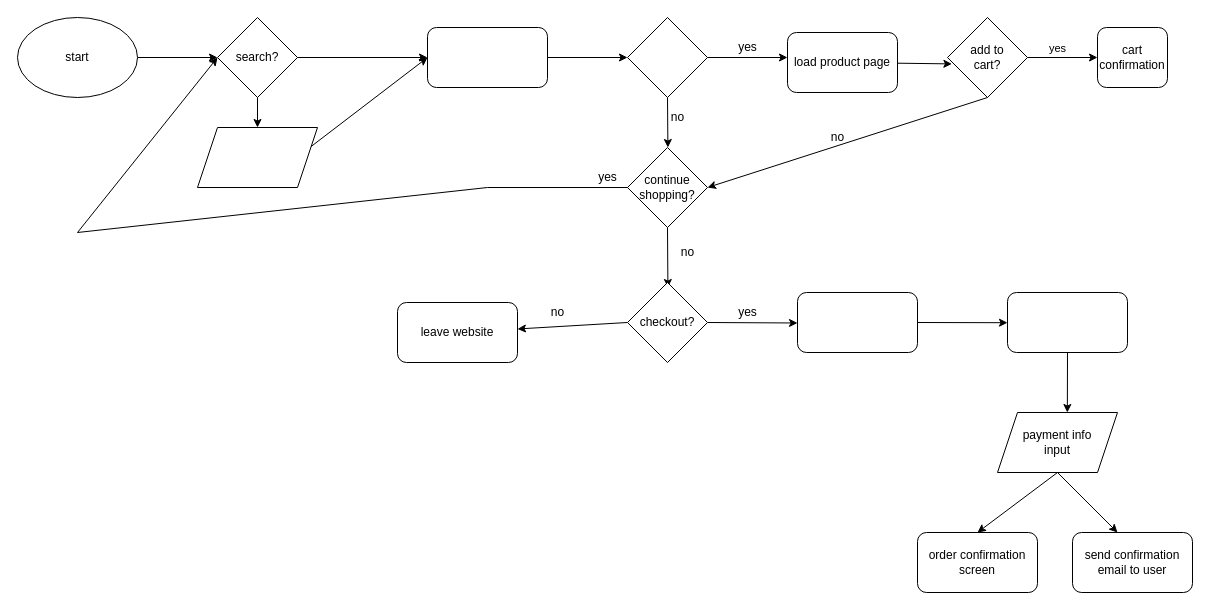
Some shapes in this 1210 by 610 pixel diagram are drawn without their labels. The box of each missing label's shape, as (x1, y1, x2, y2) in pixels:
look over products: (426, 26, 548, 88)
search input: (196, 126, 318, 188)
view cart screen: (796, 292, 918, 352)
view payment: (1006, 292, 1128, 352)
view product: (626, 16, 708, 98)
